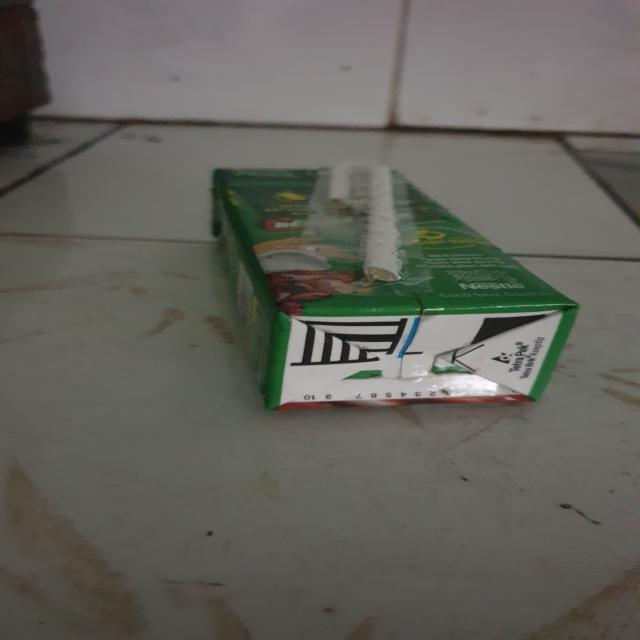Milo: (213, 161, 588, 418)
